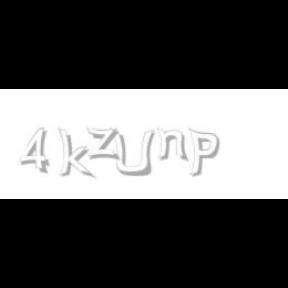4: (18, 128, 50, 174)
P: (188, 128, 220, 178)
U: (110, 128, 154, 178)
k: (57, 128, 95, 180)
n: (156, 128, 190, 162)
z: (86, 128, 122, 160)
